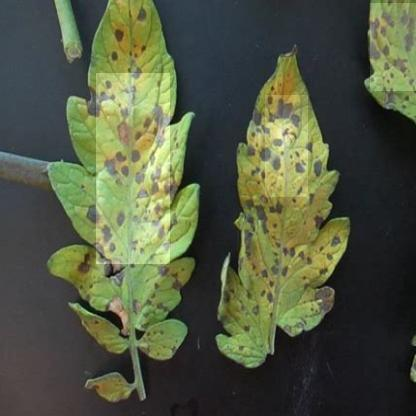black-spot: (96, 73, 170, 264), (244, 240, 312, 318), (265, 95, 308, 197), (370, 3, 416, 91)
